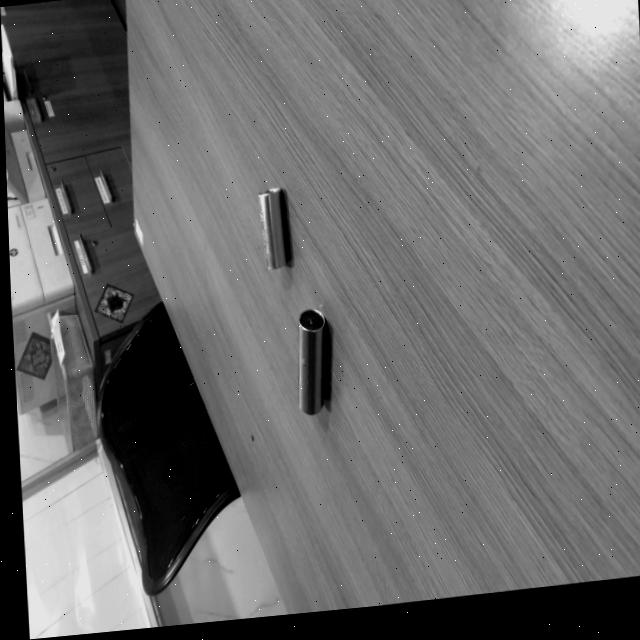Co_Lon: (297, 308, 325, 414)
Co_Nho: (257, 186, 290, 268)
